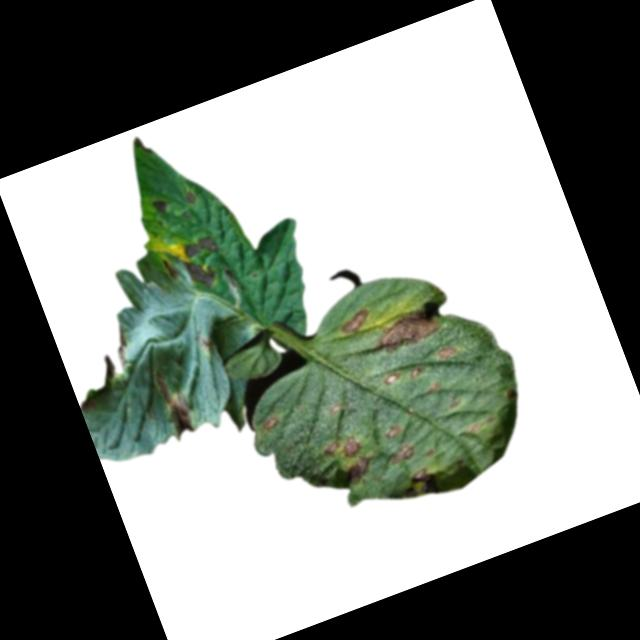Early_blight: (146, 358, 204, 440), (371, 305, 449, 358), (320, 426, 372, 465), (105, 319, 140, 374), (338, 451, 378, 488), (180, 229, 223, 262), (334, 307, 373, 339), (182, 256, 215, 293), (387, 438, 418, 468), (435, 339, 462, 361), (381, 366, 405, 389), (383, 419, 406, 441), (404, 362, 426, 383), (409, 463, 431, 483), (151, 194, 171, 214), (261, 413, 281, 432), (183, 186, 200, 205)
